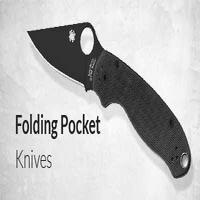knife: (17, 16, 193, 167)
